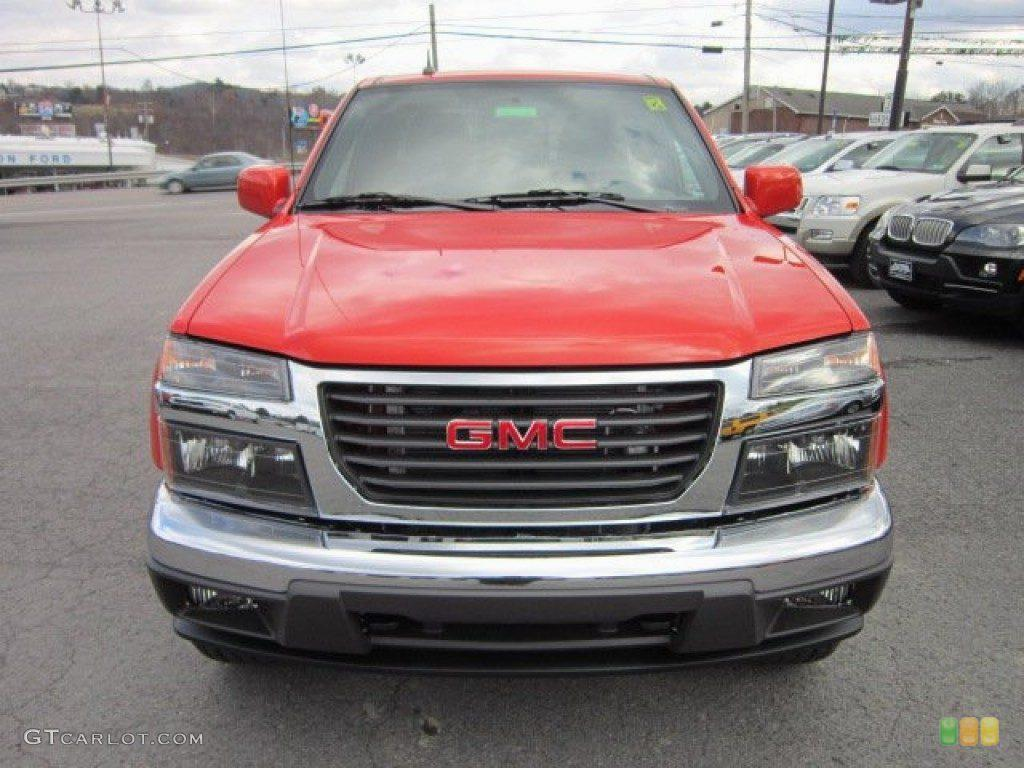GMC: (440, 412, 618, 472)
